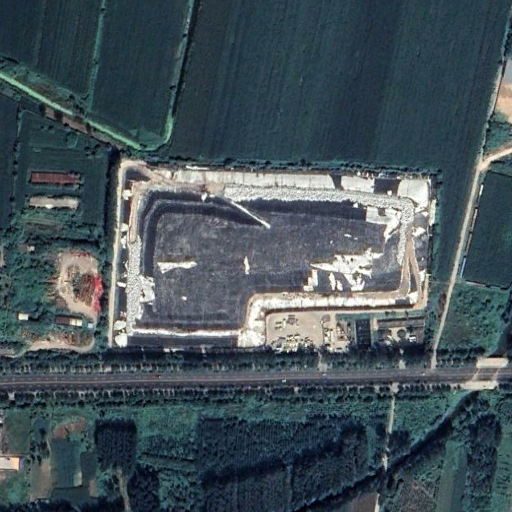lf: (111, 166, 423, 356)
